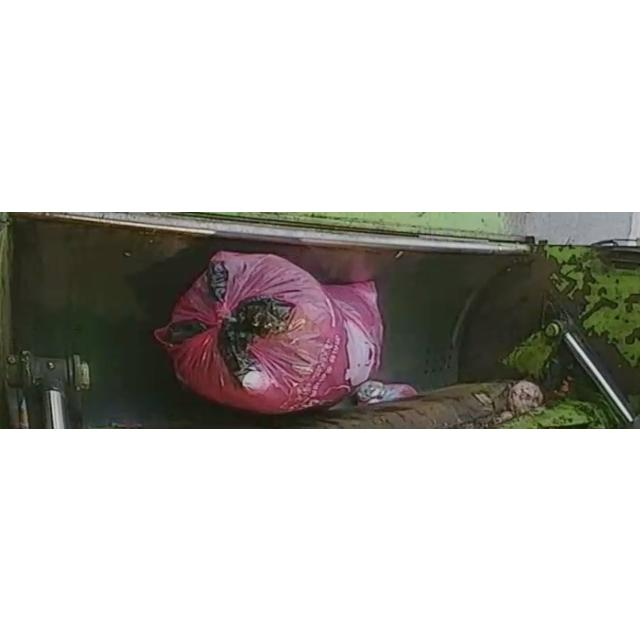other_trashbag: (154, 250, 384, 412)
